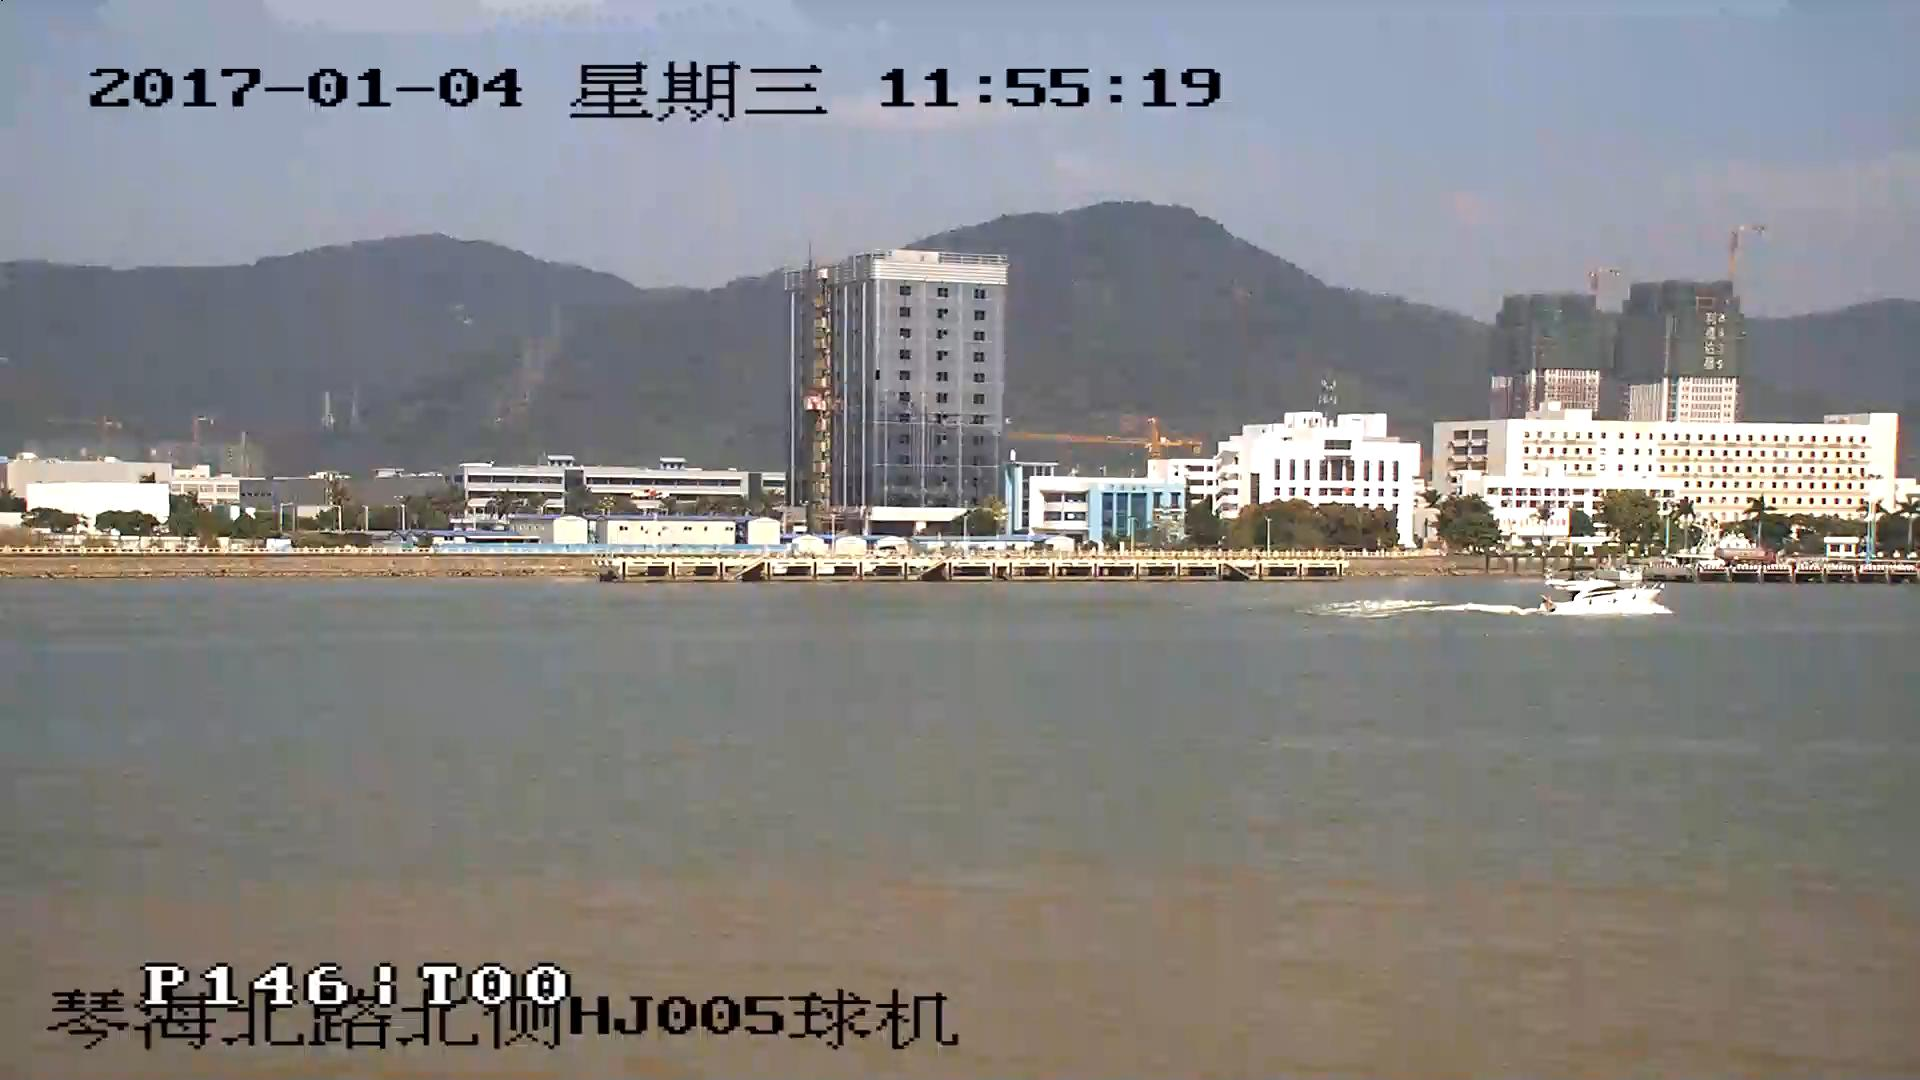passenger ship: (1548, 576, 1662, 618)
